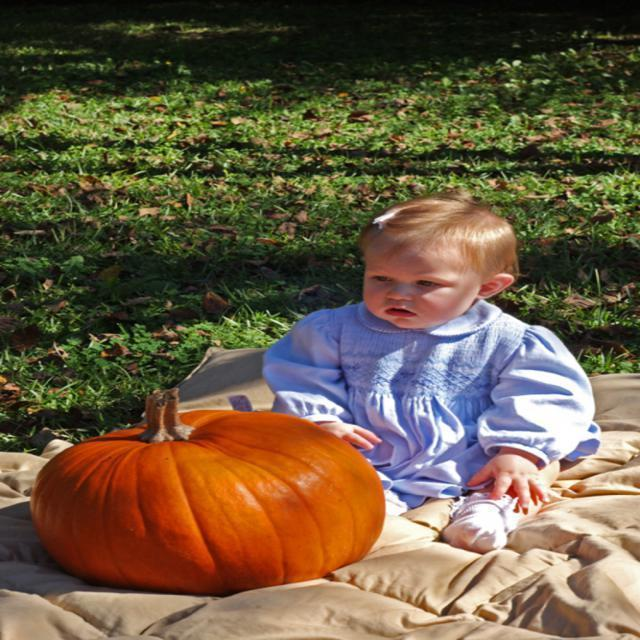Pumpkin: (26, 380, 382, 595)
